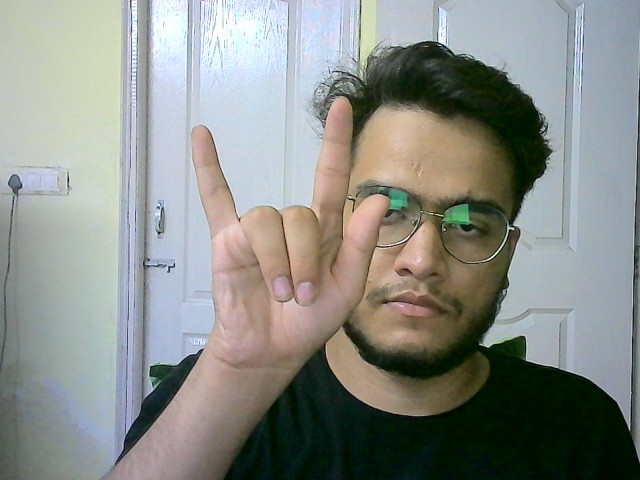I Love You: (184, 93, 392, 376)
